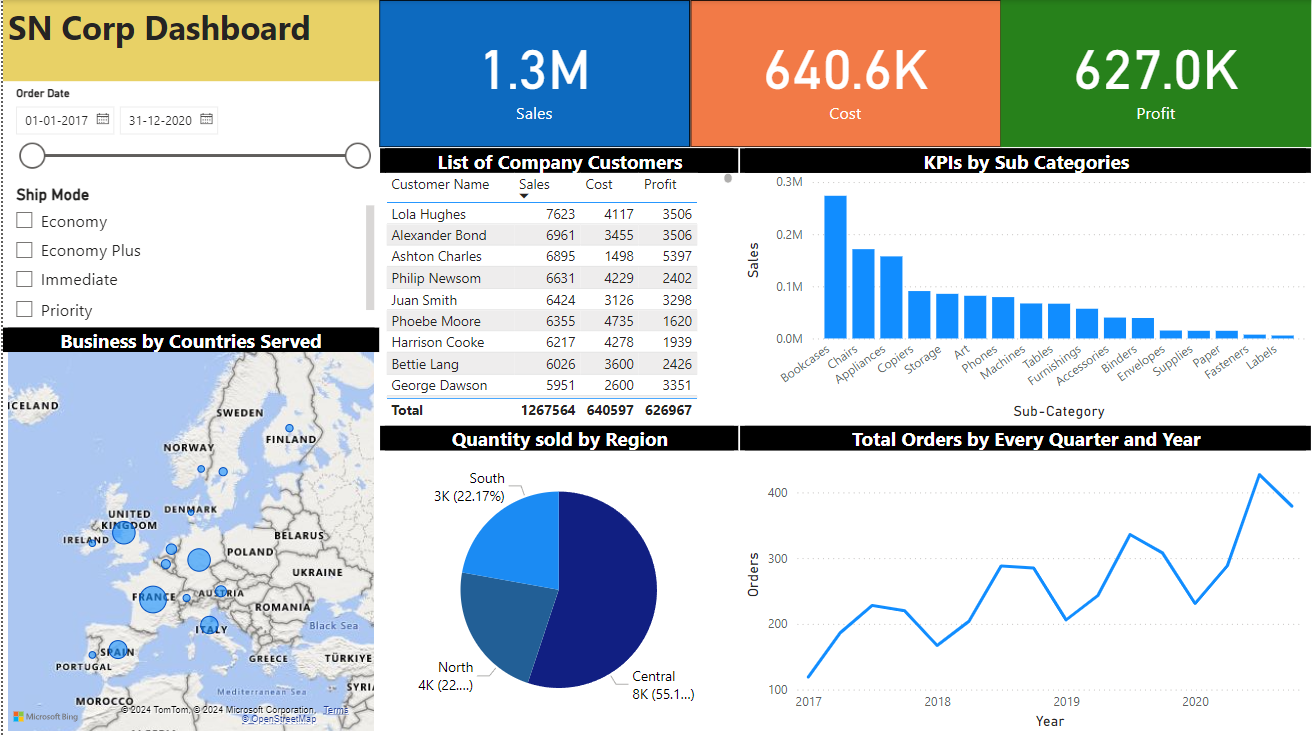

Layout of this report page (visuals, bound fields, positions):
{"tool":"powerbi","page":{"name":"Page 1","canvas":[1280,720],"ordinal":0},"visuals":[{"type":"card","fields":{"Values":["List of Orders.Sales"]},"box":[368,0,304,144],"z":0},{"type":"card","fields":{"Values":["List of Orders.Cost"]},"box":[672,0,304,144],"z":1000},{"type":"card","fields":{"Values":["List of Orders.Profit"]},"box":[976,0,304,144],"z":2000},{"type":"tableEx","title":"List of Company Customers","fields":{"Values":["List of Orders.Customer Name","List of Orders.Sales","List of Orders.Cost","List of Orders.Profit"]},"box":[368,144,352,272],"z":3000},{"type":"clusteredColumnChart","title":"KPIs by Sub Categories","fields":{"Y":["List of Orders.Sales"],"Category":["List of Orders.Sub-Category"]},"box":[720,144,560,272],"z":4000},{"type":"lineChart","title":"Total Orders by Every Quarter and Year","fields":{"Y":["List of Orders.Order ID"],"Category":["List of Orders.Order Date.Variation.Date Hierarchy.Year","List of Orders.Order Date.Variation.Date Hierarchy.Quarter"]},"box":[720,416,560,304],"z":5000},{"type":"pieChart","title":"Quantity sold by Region","fields":{"Y":["List of Orders.Quantity"],"Category":["List of Orders.Region"]},"box":[368,416,352,304],"z":6000},{"type":"map","title":"Business by Countries Served","fields":{"Category":["List of Orders.Country"],"Size":["List of Orders.Sales"]},"box":[0,320,368,400],"z":7000},{"type":"textbox","box":[0,0,368,80],"z":8000},{"type":"slicer","fields":{"Values":["List of Orders.Ship Mode"]},"box":[0,176,368,144],"z":9000},{"type":"slicer","fields":{"Values":["List of Orders.Order Date"]},"box":[0,80,368,96],"z":10000}]}

Visuals, with their boxes in screenshot pixels (x1, y1, x2, y2), scaled from the page's 1280x720 canvas onto the 1312x736 screenshot:
card - List of Orders.Sales: bbox(377, 0, 689, 147)
card - List of Orders.Cost: bbox(689, 0, 1000, 147)
card - List of Orders.Profit: bbox(1000, 0, 1311, 147)
"List of Company Customers" tableEx: bbox(377, 147, 738, 425)
"KPIs by Sub Categories" clusteredColumnChart: bbox(738, 147, 1311, 425)
"Total Orders by Every Quarter and Year" lineChart: bbox(738, 425, 1311, 735)
"Quantity sold by Region" pieChart: bbox(377, 425, 738, 735)
"Business by Countries Served" map: bbox(0, 327, 377, 735)
textbox: bbox(0, 0, 377, 82)
slicer - List of Orders.Ship Mode: bbox(0, 180, 377, 327)
slicer - List of Orders.Order Date: bbox(0, 82, 377, 180)
